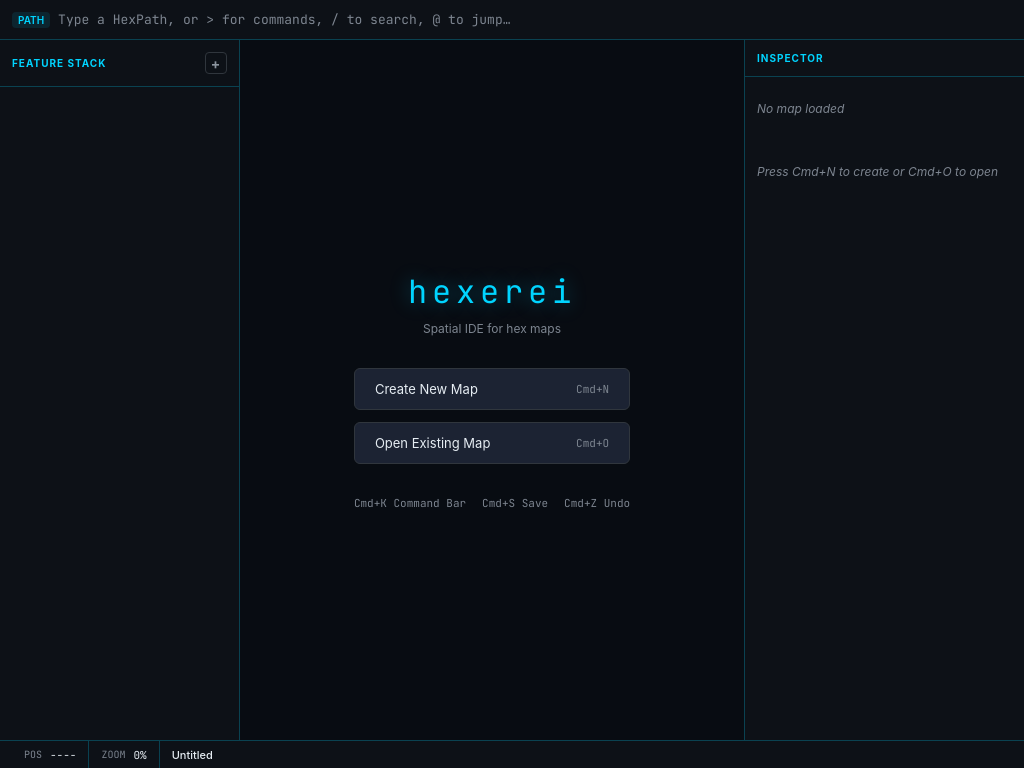
WelcomeScreen Create New Map opens dialog
Step 1. Click the button "Create New Map Cmd+N" → coordinates (426, 389), box [354,368,630,410]
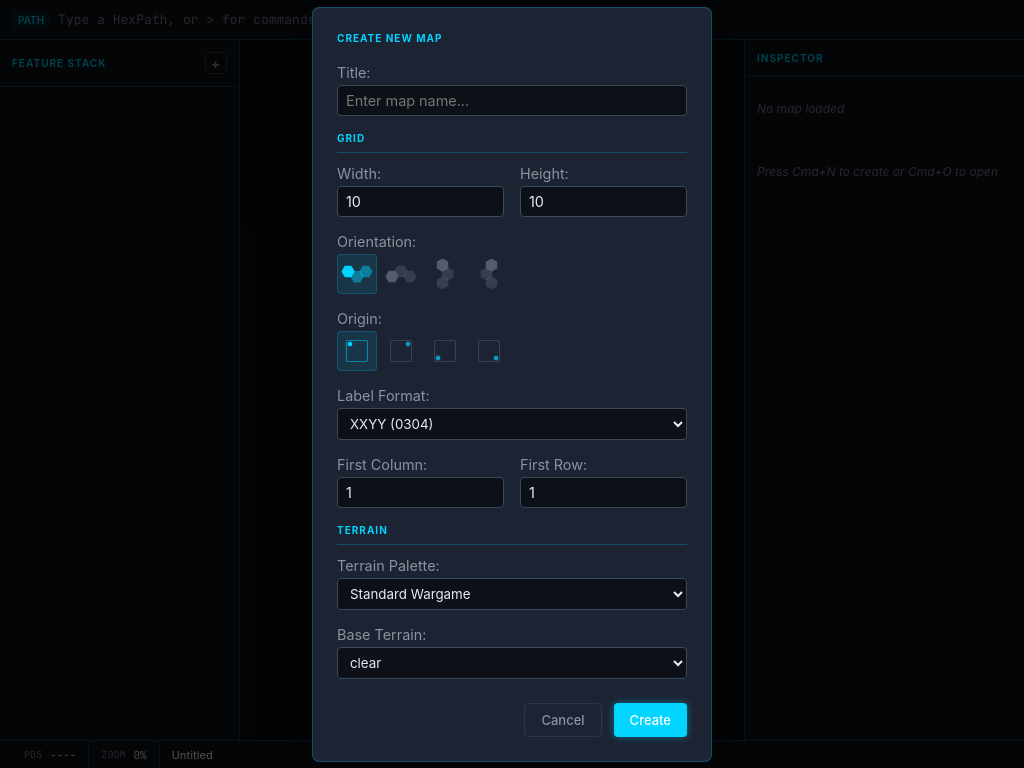
expect the dialog "Create New Map" is shown: met
